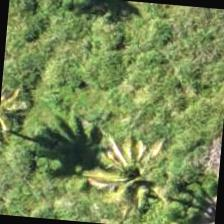Kelapa_Sawit: (67, 127, 166, 223)
